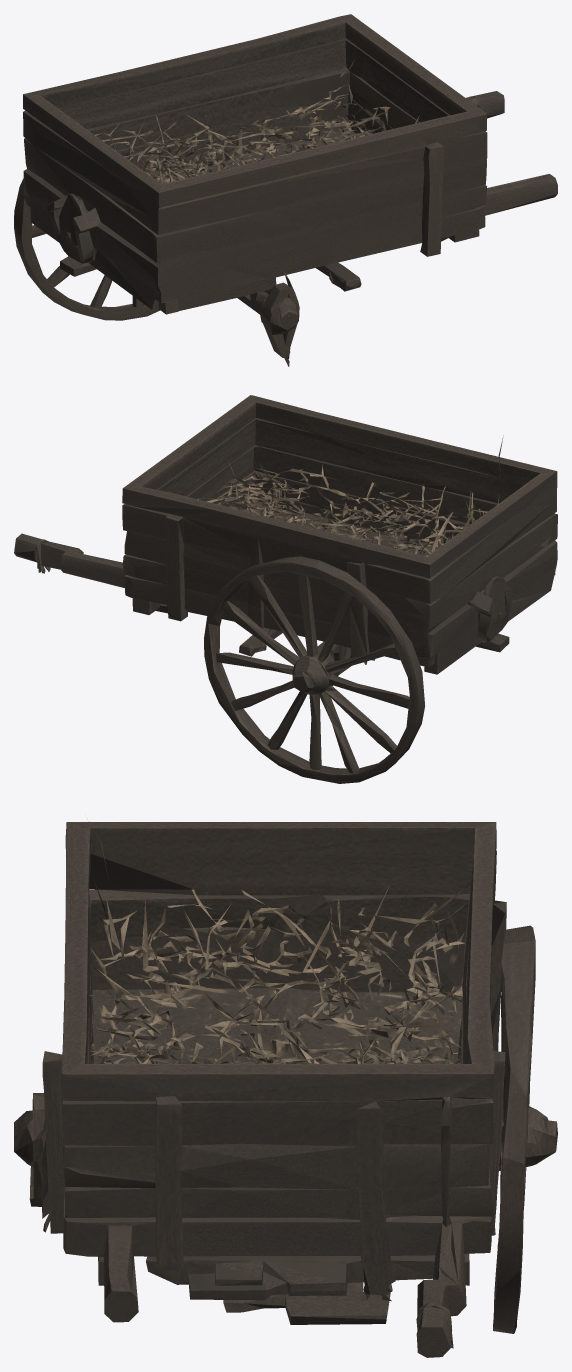
File: hay_cart.glb
The picture shows the model from 3 angles, top to bottom: view 1: azimuth 30°, elevation 25°; view 2: azimuth 150°, elevation 25°; view 3: azimuth 270°, elevation 25°; orthographic projection. The views are drawn at different scales.
Bounding box in the file's own units: 1.9 × 1.08 × 1.19.
Materials: 1 (1 with a texture image).
